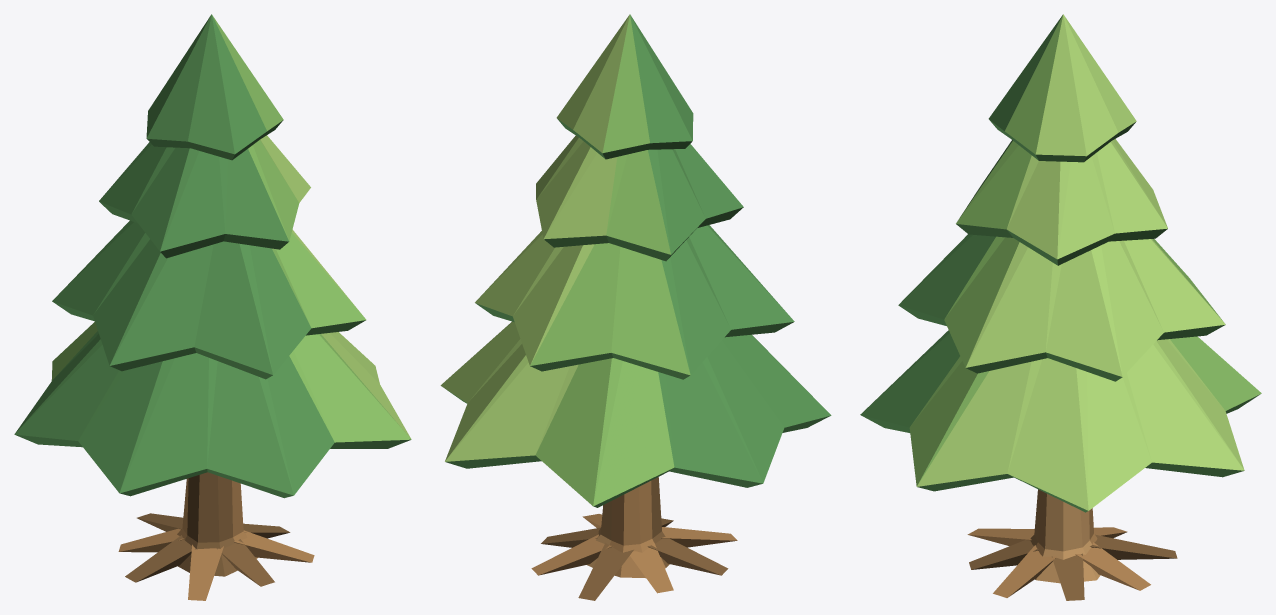
The model's file is LowPolyMedievalPine.glb.
The picture shows the model from 3 angles, left to right: view 1: azimuth 30°, elevation 25°; view 2: azimuth 150°, elevation 25°; view 3: azimuth 270°, elevation 25°; orthographic projection.
Visible parts, largest first — view 1: LowPolyMedievalPine_Foliage_01_Lower, LowPolyMedievalPine_Foliage_02_Middle, LowPolyMedievalPine_Foliage_03_Upper, LowPolyMedievalPine_Foliage_04_Top, LowPolyMedievalPine_Trunk, LowPolyMedievalPine_RootFlare_06, LowPolyMedievalPine_RootFlare_05, LowPolyMedievalPine_RootFlare_08, LowPolyMedievalPine_RootFlare_07, LowPolyMedievalPine_RootFlare_04, LowPolyMedievalPine_RootFlare_03; view 2: LowPolyMedievalPine_Foliage_01_Lower, LowPolyMedievalPine_Foliage_02_Middle, LowPolyMedievalPine_Foliage_03_Upper, LowPolyMedievalPine_Foliage_04_Top, LowPolyMedievalPine_Trunk, LowPolyMedievalPine_RootFlare_03, LowPolyMedievalPine_RootFlare_05, LowPolyMedievalPine_RootFlare_02, LowPolyMedievalPine_RootFlare_04, LowPolyMedievalPine_RootFlare_06, LowPolyMedievalPine_RootFlare_01; view 3: LowPolyMedievalPine_Foliage_01_Lower, LowPolyMedievalPine_Foliage_02_Middle, LowPolyMedievalPine_Foliage_03_Upper, LowPolyMedievalPine_Foliage_04_Top, LowPolyMedievalPine_Trunk, LowPolyMedievalPine_RootFlare_02, LowPolyMedievalPine_RootFlare_08, LowPolyMedievalPine_RootFlare_03, LowPolyMedievalPine_RootFlare_01, LowPolyMedievalPine_RootFlare_07, LowPolyMedievalPine_RootFlare_06.
Boxes of the visible parts, left/top/right/bottom form: LowPolyMedievalPine_Foliage_01_Lower: left=14, top=322, right=411, bottom=498; LowPolyMedievalPine_Foliage_02_Middle: left=52, top=220, right=366, bottom=379; LowPolyMedievalPine_Foliage_03_Upper: left=99, top=135, right=310, bottom=258; LowPolyMedievalPine_Foliage_04_Top: left=146, top=14, right=283, bottom=160; LowPolyMedievalPine_Trunk: left=177, top=472, right=257, bottom=576; LowPolyMedievalPine_RootFlare_06: left=188, top=544, right=223, bottom=600; LowPolyMedievalPine_RootFlare_05: left=125, top=535, right=195, bottom=582; LowPolyMedievalPine_RootFlare_08: left=233, top=530, right=314, bottom=562; LowPolyMedievalPine_RootFlare_07: left=216, top=539, right=274, bottom=586; LowPolyMedievalPine_RootFlare_04: left=118, top=528, right=185, bottom=552; LowPolyMedievalPine_RootFlare_03: left=137, top=513, right=183, bottom=531; LowPolyMedievalPine_Foliage_01_Lower: left=440, top=321, right=831, bottom=507; LowPolyMedievalPine_Foliage_02_Middle: left=475, top=225, right=794, bottom=379; LowPolyMedievalPine_Foliage_03_Upper: left=536, top=135, right=743, bottom=261; LowPolyMedievalPine_Foliage_04_Top: left=556, top=14, right=693, bottom=159; LowPolyMedievalPine_Trunk: left=587, top=477, right=669, bottom=578; LowPolyMedievalPine_RootFlare_03: left=578, top=542, right=633, bottom=600; LowPolyMedievalPine_RootFlare_05: left=647, top=536, right=728, bottom=575; LowPolyMedievalPine_RootFlare_02: left=531, top=534, right=612, bottom=575; LowPolyMedievalPine_RootFlare_04: left=630, top=542, right=673, bottom=593; LowPolyMedievalPine_RootFlare_06: left=661, top=527, right=737, bottom=547; LowPolyMedievalPine_RootFlare_01: left=541, top=527, right=600, bottom=547; LowPolyMedievalPine_Foliage_01_Lower: left=860, top=330, right=1261, bottom=512; LowPolyMedievalPine_Foliage_02_Middle: left=898, top=234, right=1225, bottom=381; LowPolyMedievalPine_Foliage_03_Upper: left=956, top=139, right=1167, bottom=265; LowPolyMedievalPine_Foliage_04_Top: left=988, top=14, right=1136, bottom=162; LowPolyMedievalPine_Trunk: left=1030, top=489, right=1100, bottom=583; LowPolyMedievalPine_RootFlare_02: left=1075, top=542, right=1150, bottom=590; LowPolyMedievalPine_RootFlare_08: left=993, top=545, right=1056, bottom=597; LowPolyMedievalPine_RootFlare_03: left=1090, top=534, right=1177, bottom=559; LowPolyMedievalPine_RootFlare_01: left=1051, top=553, right=1084, bottom=600; LowPolyMedievalPine_RootFlare_07: left=969, top=540, right=1038, bottom=569; LowPolyMedievalPine_RootFlare_06: left=967, top=528, right=1034, bottom=546.
Bounding box in the file's own units: 4.8 × 7.28 × 4.83.
